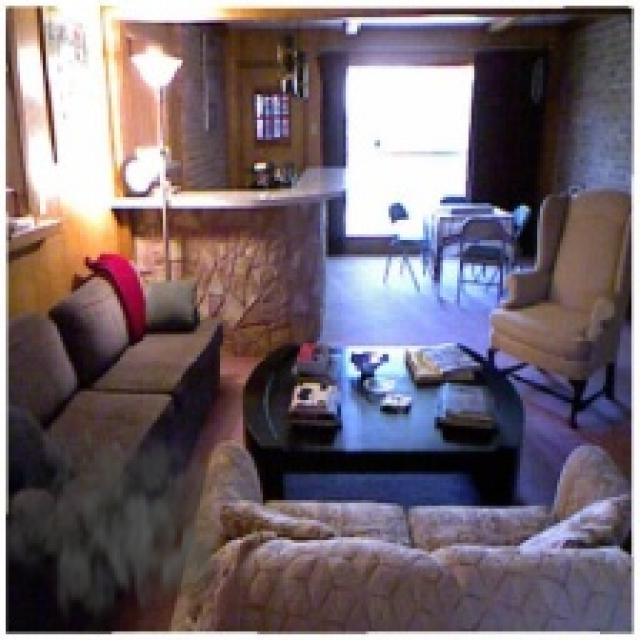smoke: (6, 397, 234, 634)
